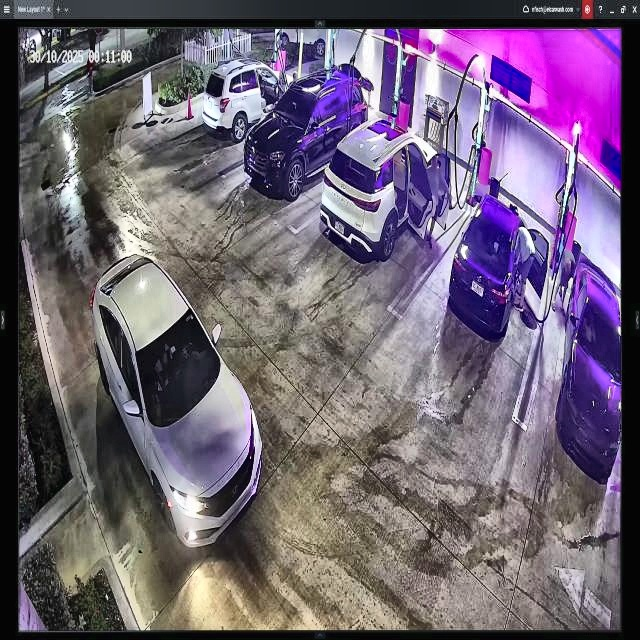Car: (93, 258, 262, 550), (323, 122, 448, 258), (246, 68, 368, 194), (450, 195, 550, 337)
